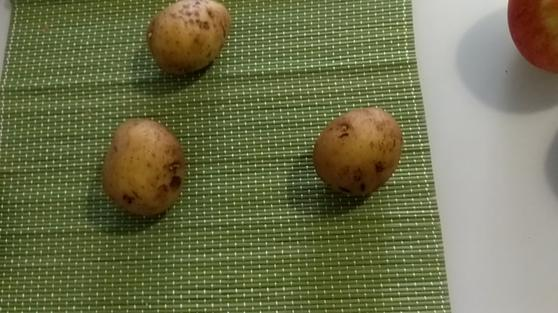potato: (312, 105, 405, 199), (101, 117, 187, 216), (148, 1, 231, 76)
